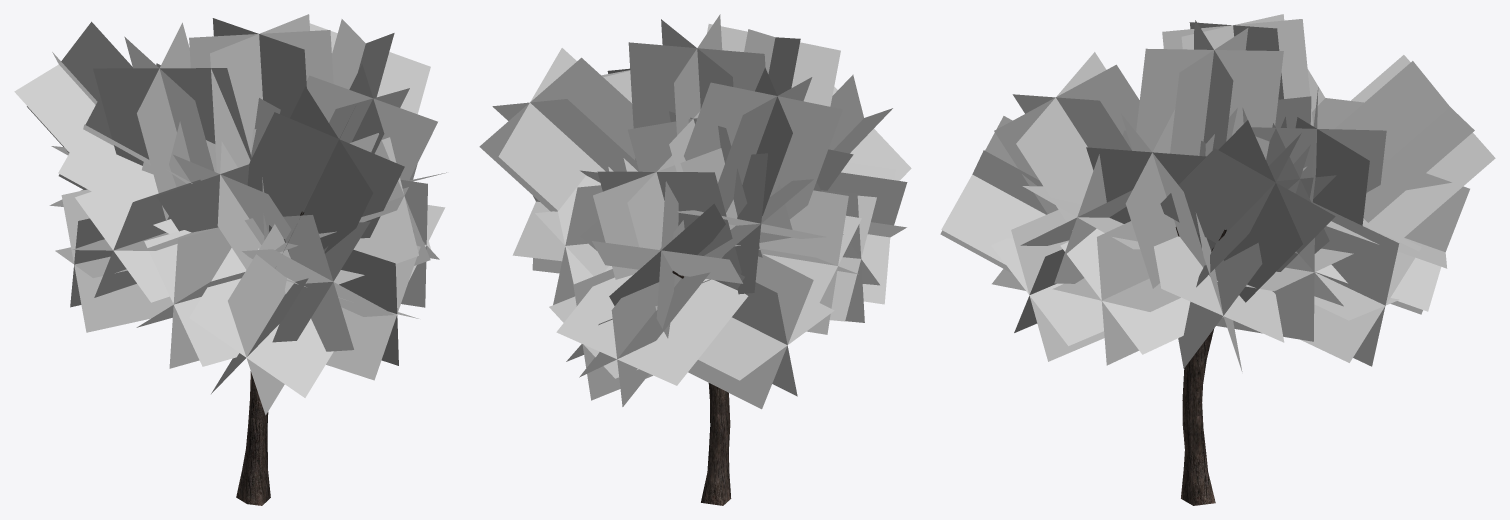
The model's file is comun01_unwrap.FBX.
The picture shows the model from 3 angles, left to right: view 1: azimuth 30°, elevation 25°; view 2: azimuth 150°, elevation 25°; view 3: azimuth 270°, elevation 25°; orthographic projection.
Parts seen in each view (by area): view 1: Plane025, TRONCO; view 2: Plane025, TRONCO; view 3: Plane025, TRONCO.
Part boxes in pixels (x1,y1,x2,y2): Plane025: [14, 14, 446, 415]; TRONCO: [236, 211, 304, 505]; Plane025: [479, 14, 911, 409]; TRONCO: [672, 271, 731, 505]; Plane025: [940, 14, 1495, 371]; TRONCO: [1175, 227, 1226, 505].
Bounding box in the file's own units: 290 × 361 × 393.
